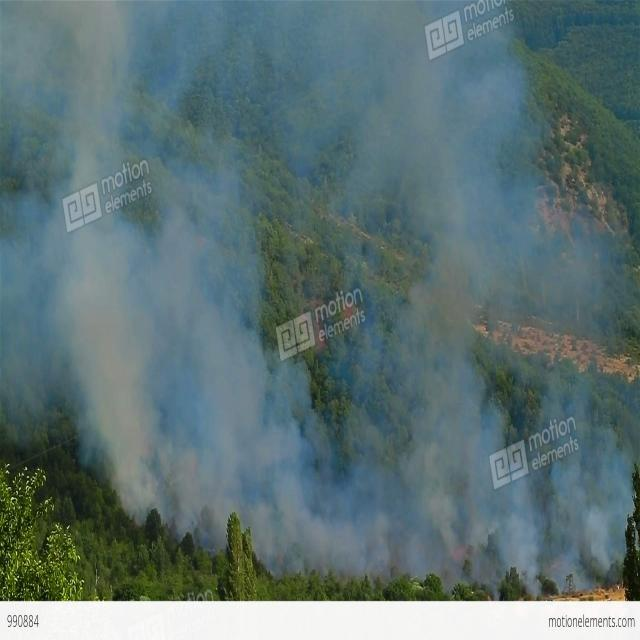Smoke: (0, 0, 627, 579)
